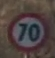limite 70: (6, 12, 48, 52)
